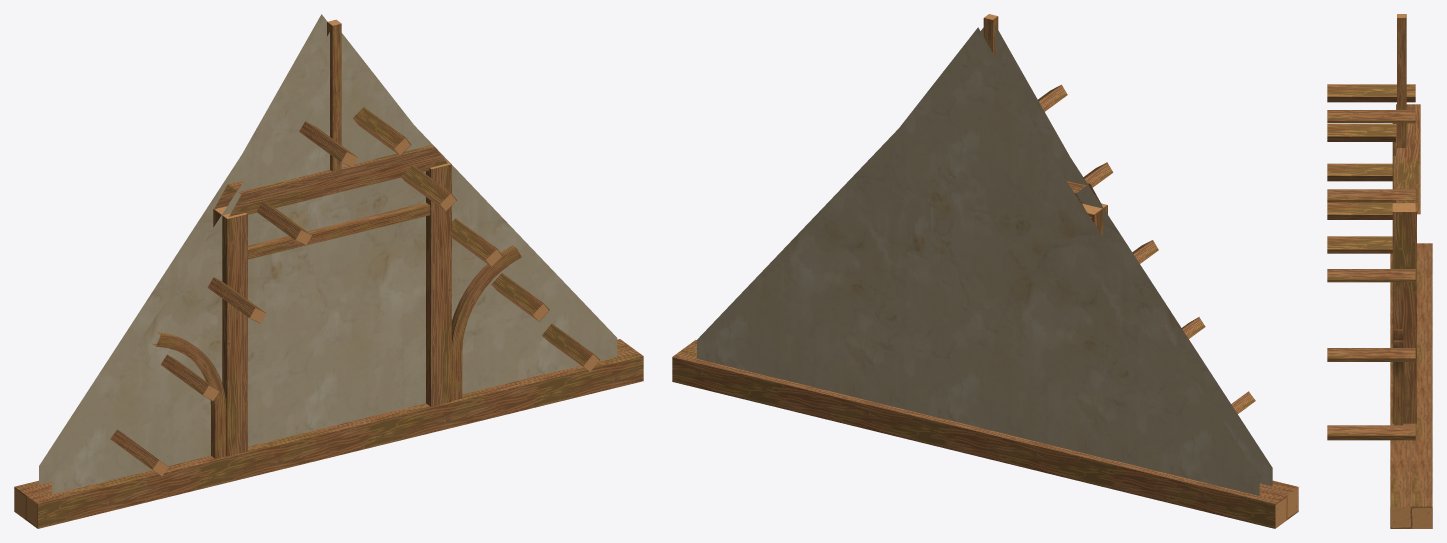
The model's file is Roof_Front_Brick6.gltf.
3 views of the same model, side by side, from view 1: azimuth 30°, elevation 25°; view 2: azimuth 150°, elevation 25°; view 3: azimuth 270°, elevation 25° (orthographic). The views are drawn at different scales.
Parts seen in each view (by area): view 1: Roof_Front_Brick6; view 2: Roof_Front_Brick6; view 3: Roof_Front_Brick6.
Boxes of the visible parts, bbox=[...] form: Roof_Front_Brick6: bbox=[14, 14, 643, 528]; Roof_Front_Brick6: bbox=[672, 14, 1298, 528]; Roof_Front_Brick6: bbox=[1327, 14, 1432, 528].
Bounding box in the file's own units: 6.69 × 4.52 × 1.13.
2 materials, 2 textured.
